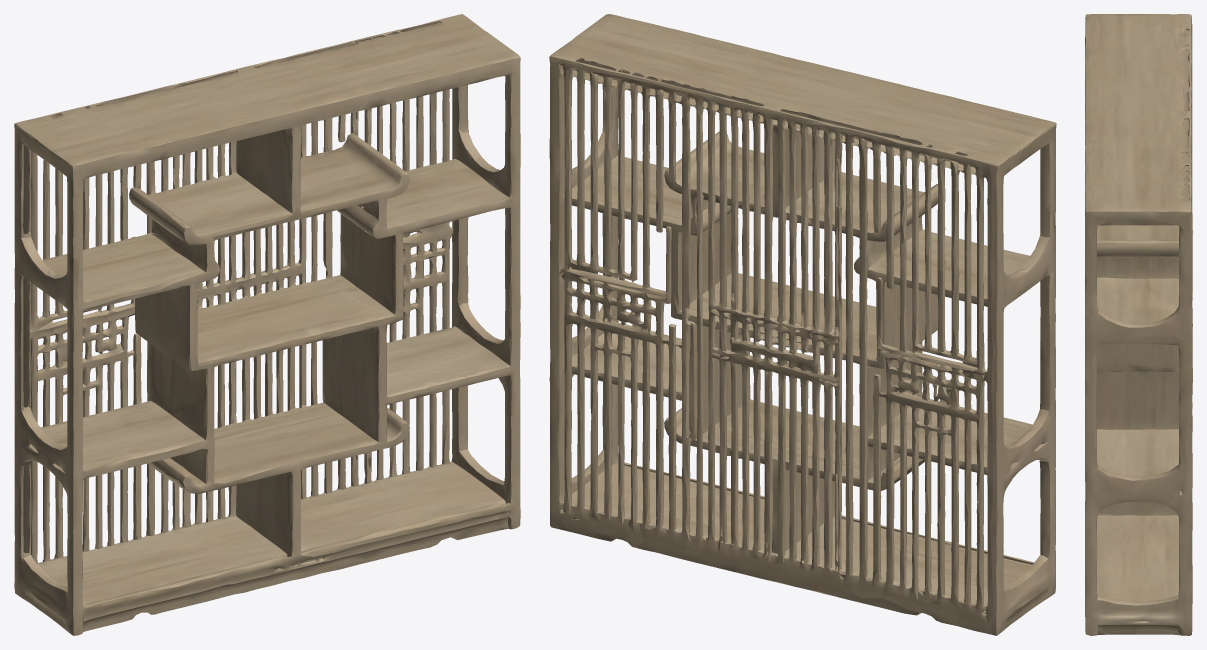
The model's file is display-shelf.glb.
3 renders of one model, left to right at view 1: azimuth 30°, elevation 25°; view 2: azimuth 150°, elevation 25°; view 3: azimuth 270°, elevation 25°, orthographic. The views are drawn at different scales.
Visible parts, largest first — view 1: geometry_0; view 2: geometry_0; view 3: geometry_0.
Boxes of the visible parts, x1,y1,x2,y2 form: geometry_0: (14, 14, 520, 635); geometry_0: (549, 14, 1056, 635); geometry_0: (1085, 14, 1192, 635).
Size of the model in its own units: 1.8 by 1.8 by 0.414.
1 material, 1 textured.
